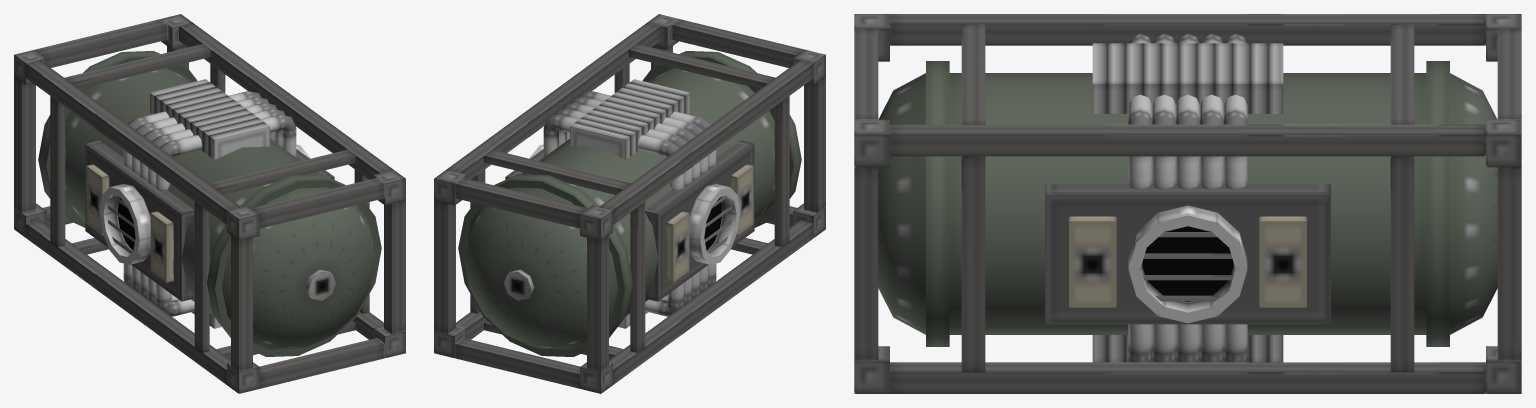
The model's file is condenser.obj.
The picture shows the model from 3 angles, left to right: view 1: azimuth 30°, elevation 25°; view 2: azimuth 150°, elevation 25°; view 3: azimuth 270°, elevation 25°; orthographic projection. The views are drawn at different scales.
Bounding box in the file's own units: 3.25 × 3.25 × 7.
